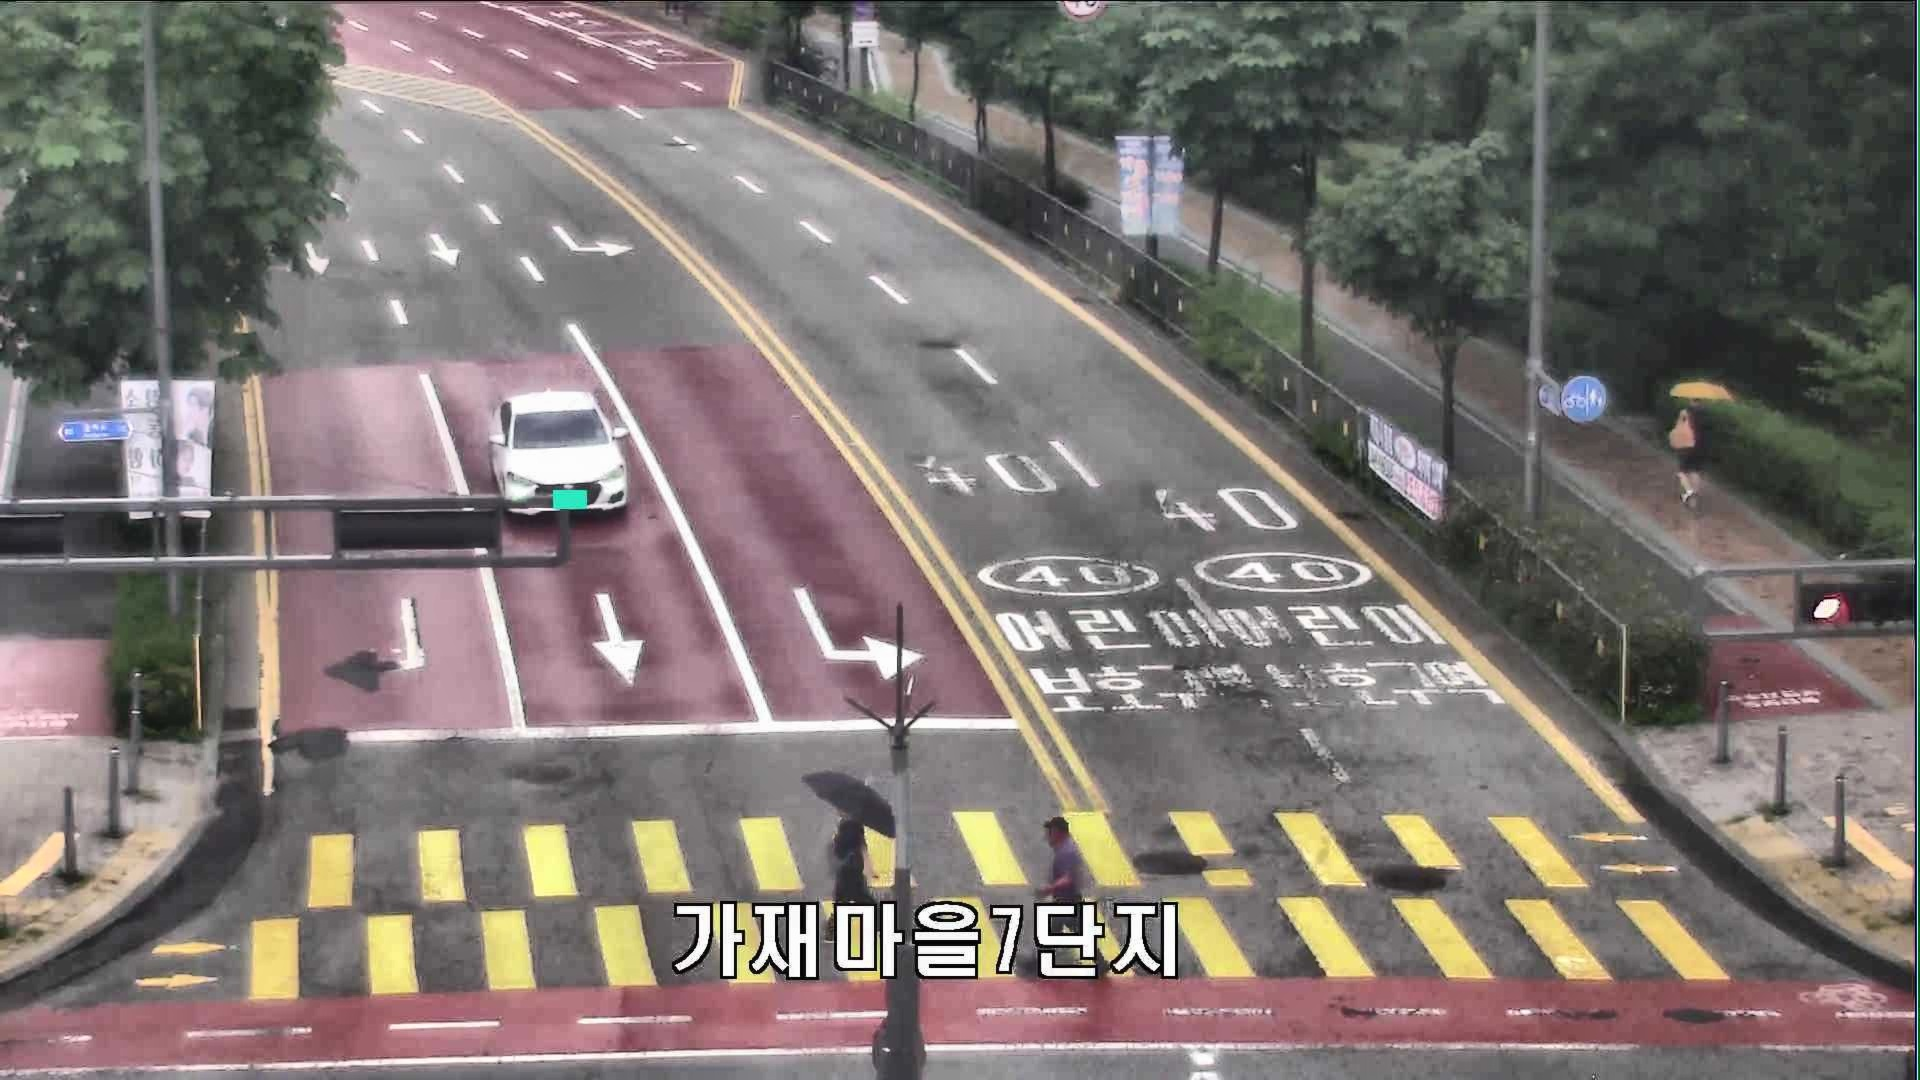crosswalk: (1025, 816, 1113, 978)
um_crosswalk: (804, 773, 894, 935)
um_sidewalk: (1669, 382, 1734, 504)
